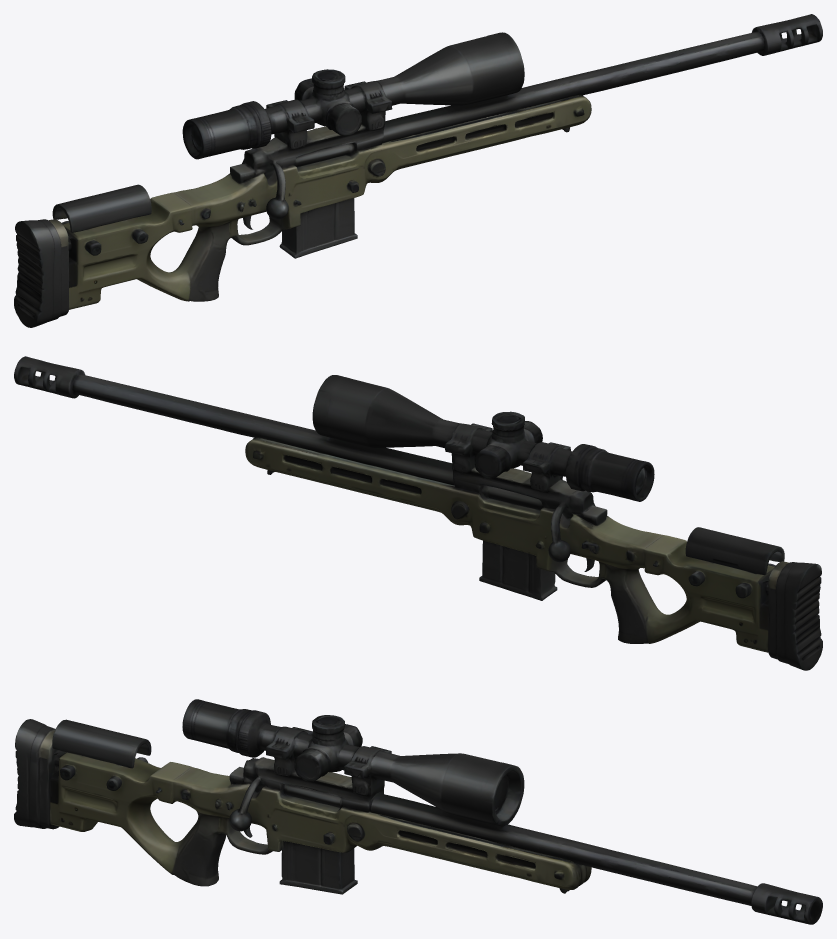
Rendered from sniper.glb.
The picture shows the model from 3 angles, top to bottom: view 1: azimuth 30°, elevation 25°; view 2: azimuth 150°, elevation 25°; view 3: azimuth 330°, elevation 25°; orthographic projection.
Visible parts, largest first — view 1: tripo_node_325cd602-11e5-48c6-b570-10a0f39a6623; view 2: tripo_node_325cd602-11e5-48c6-b570-10a0f39a6623; view 3: tripo_node_325cd602-11e5-48c6-b570-10a0f39a6623.
Boxes of the visible parts, x1,y1,x2,y2 form: tripo_node_325cd602-11e5-48c6-b570-10a0f39a6623: (14, 14, 822, 327); tripo_node_325cd602-11e5-48c6-b570-10a0f39a6623: (14, 356, 822, 670); tripo_node_325cd602-11e5-48c6-b570-10a0f39a6623: (14, 699, 822, 924).
Size of the model in its own units: 1 by 0.2302 by 0.1056.
Materials: 1 (1 with a texture image).
